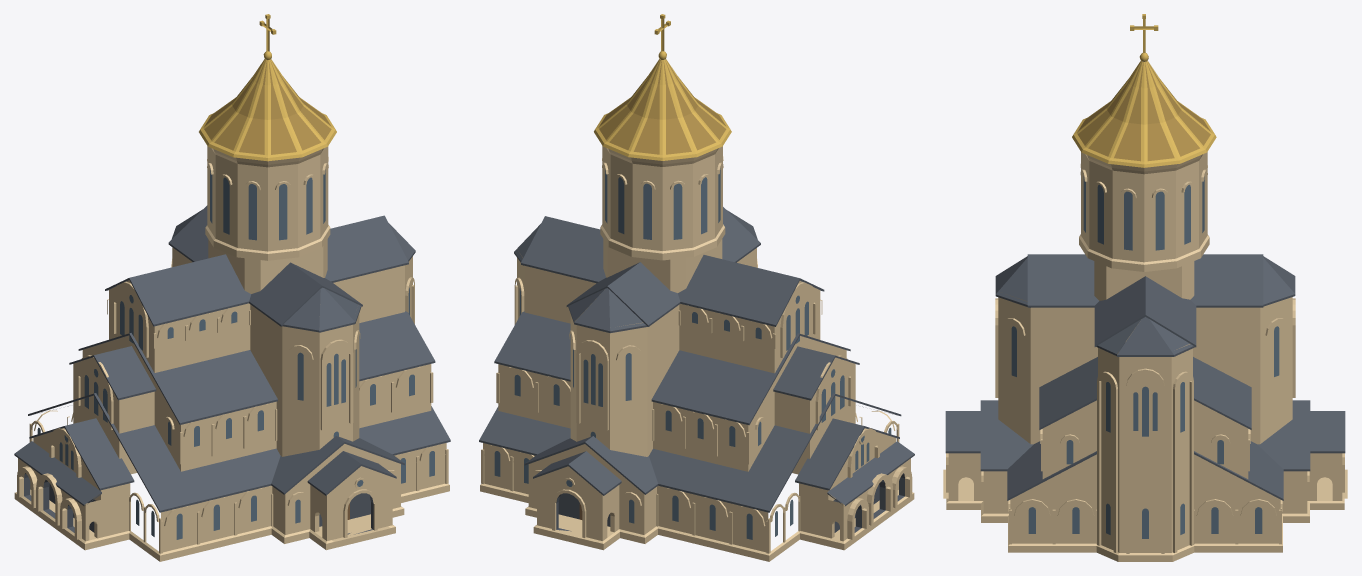
The model's file is tbilisi-holy-trinity-cathedral.glb.
3 views of the same model, side by side, from view 1: azimuth 30°, elevation 25°; view 2: azimuth 150°, elevation 25°; view 3: azimuth 270°, elevation 25° (orthographic). The views are drawn at different scales.
Visible parts, largest first — view 1: Holy Trinity Cathedral (Tsminda Sameba); view 2: Holy Trinity Cathedral (Tsminda Sameba); view 3: Holy Trinity Cathedral (Tsminda Sameba).
Boxes of the visible parts, box(x1,y1,x2,y2) form: Holy Trinity Cathedral (Tsminda Sameba): box(14, 14, 450, 561); Holy Trinity Cathedral (Tsminda Sameba): box(479, 14, 914, 561); Holy Trinity Cathedral (Tsminda Sameba): box(943, 14, 1347, 561).
Bounding box in the file's own units: 70.33 × 86.35 × 66.2.
